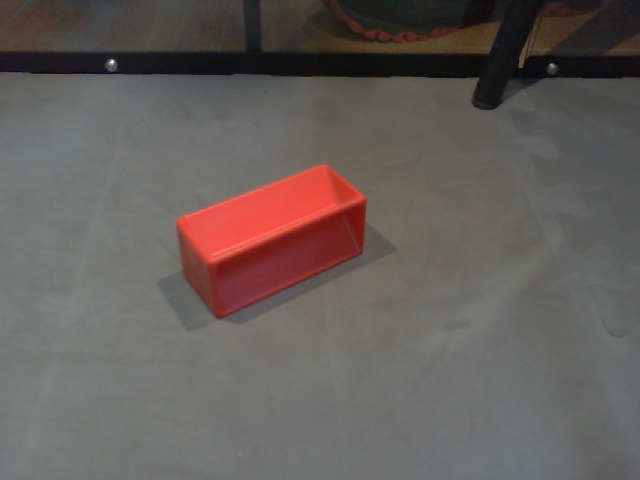RedSample: (168, 162, 368, 317)
